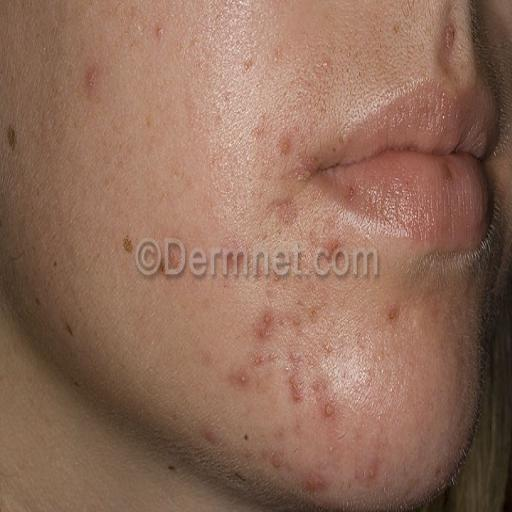Skin_Lesion: (314, 363, 341, 424), (267, 190, 300, 236), (80, 54, 106, 104), (436, 17, 461, 62), (286, 360, 308, 408), (1, 119, 23, 161), (324, 232, 348, 270), (300, 471, 330, 499), (227, 356, 248, 394), (255, 304, 274, 344), (149, 12, 167, 49), (116, 226, 136, 258), (268, 442, 287, 475), (60, 314, 79, 345), (384, 295, 402, 327), (279, 129, 298, 158), (364, 455, 381, 484), (267, 0, 296, 10)
